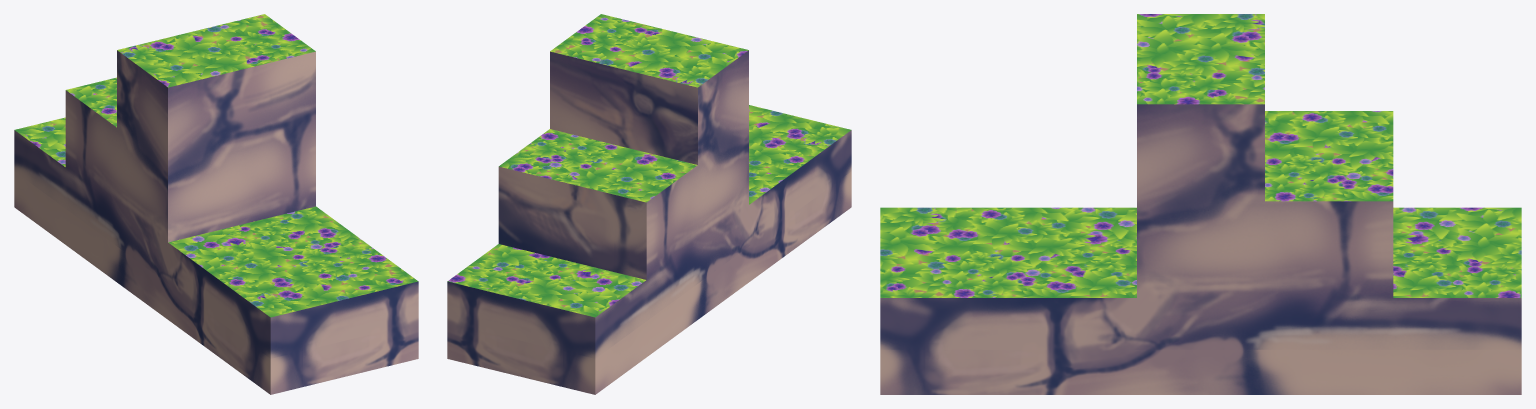
The model's file is block_08.fbx.
3 views of the same model, side by side, from view 1: azimuth 30°, elevation 25°; view 2: azimuth 150°, elevation 25°; view 3: azimuth 270°, elevation 25° (orthographic). The views are drawn at different scales.
Parts seen in each view (by area): view 1: block_08.001; view 2: block_08.001; view 3: block_08.001.
Boxes of the visible parts, x1=… form: block_08.001: x1=14, y1=14, x2=418, y2=394; block_08.001: x1=447, y1=14, x2=851, y2=394; block_08.001: x1=880, y1=14, x2=1521, y2=394.
Size of the model in its own units: 400 by 600 by 1200.
Materials: 2 (2 with a texture image).
